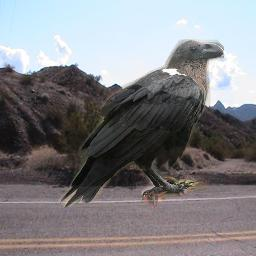Crow: (58, 39, 224, 209)
